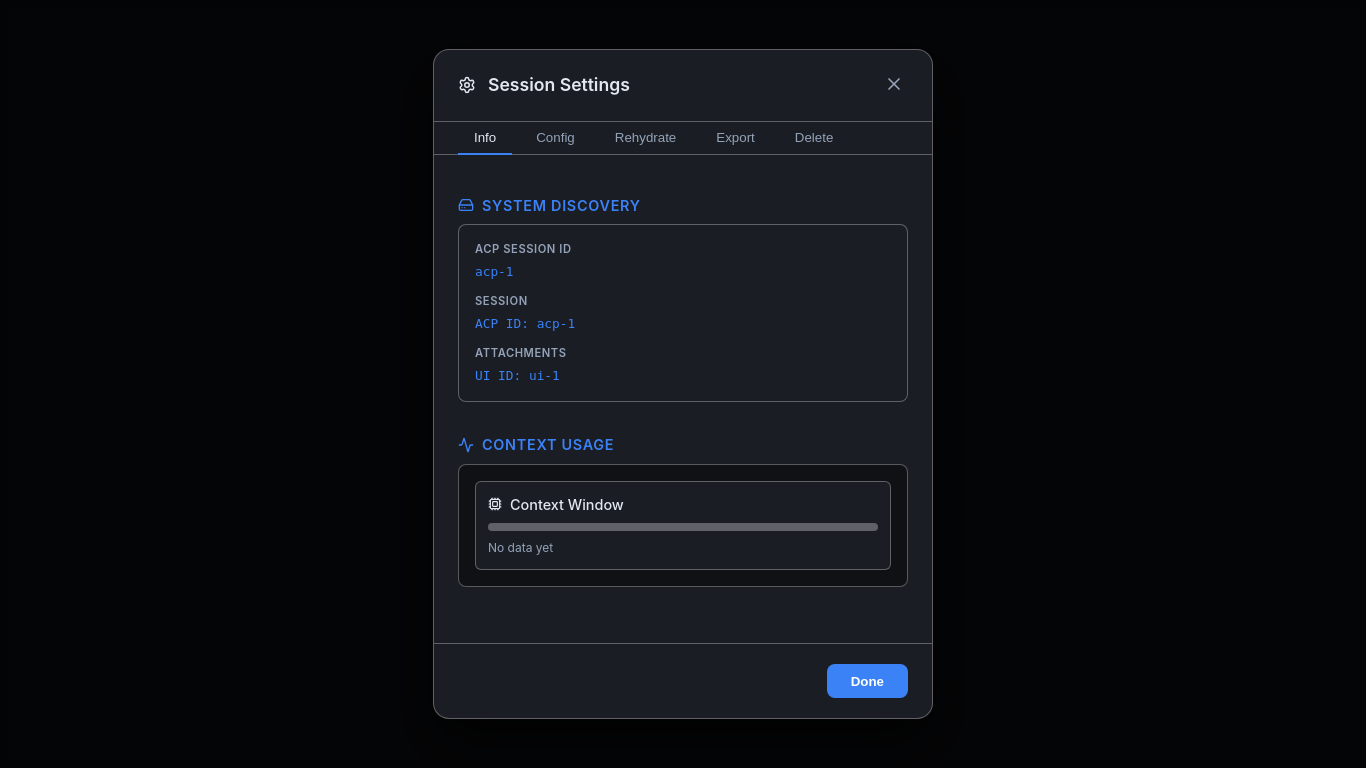
it: SessionSettingsModal › switches to config tab and shows model selector
Click the button "Config": (555, 138) [520,122,591,154]
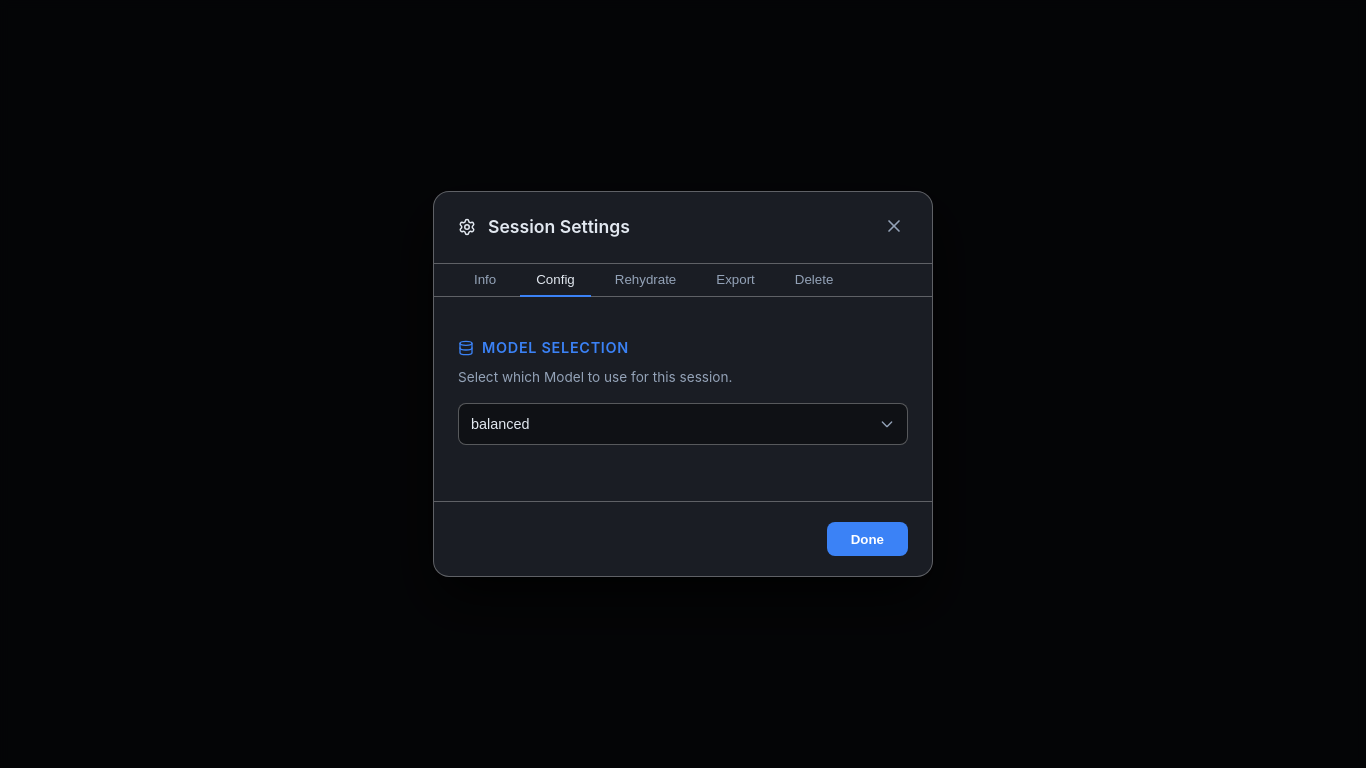
Expected: the heading "Model Selection" is shown, [482,337,629,358]
